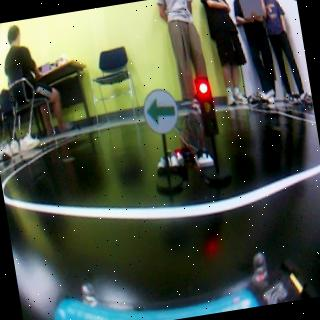left: (138, 90, 180, 137)
red: (196, 74, 228, 188)
